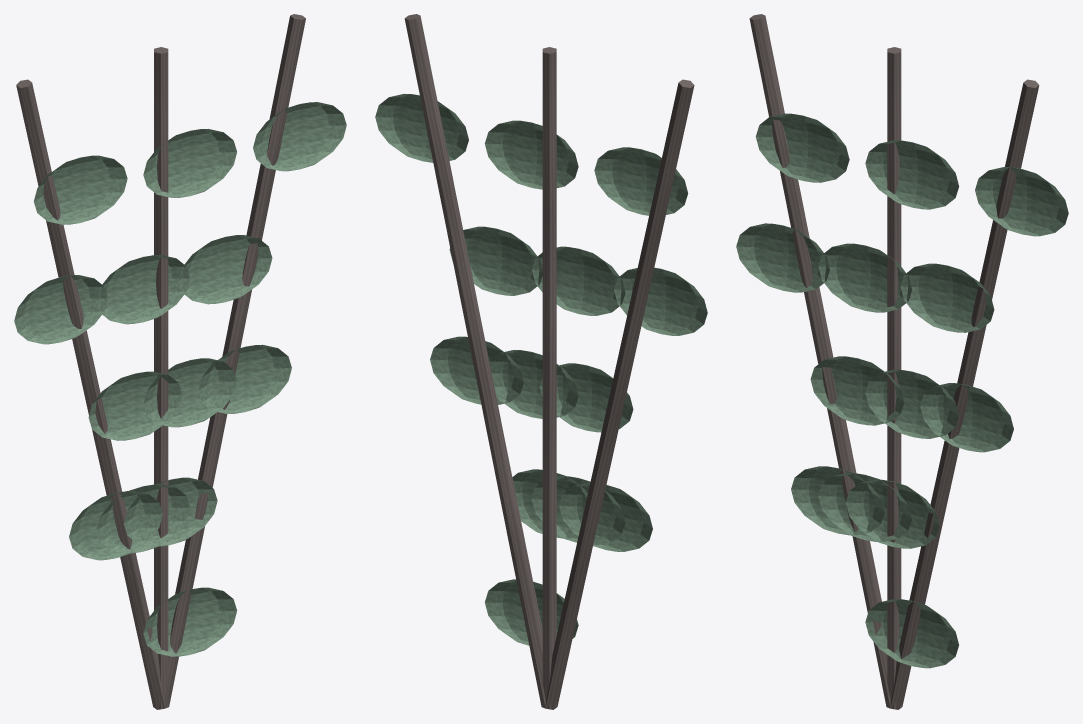
File: lantern-watch-climbing-wall-ivy__85.glb
The picture shows the model from 3 angles, left to right: view 1: azimuth 30°, elevation 25°; view 2: azimuth 150°, elevation 25°; view 3: azimuth 330°, elevation 25°; orthographic projection.
Parts seen in each view (by area): view 1: lantern-watch-climbing-ivy; view 2: lantern-watch-climbing-ivy; view 3: lantern-watch-climbing-ivy.
Part boxes in pixels (x1,y1,x2,y2): lantern-watch-climbing-ivy: (14, 14, 346, 709); lantern-watch-climbing-ivy: (375, 14, 707, 709); lantern-watch-climbing-ivy: (736, 14, 1068, 709).
Size of the model in its own units: 0.85 by 1.61 by 0.068.
2 materials, 2 textured.
